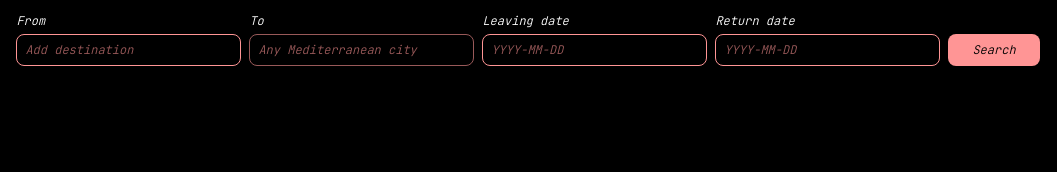
SearchForm › validates return date is after departure date
This screenshot has width=1057, height=172.
Type "Stockholm" into the field named "Departure city" at (129, 50), box [16,34,241,66]
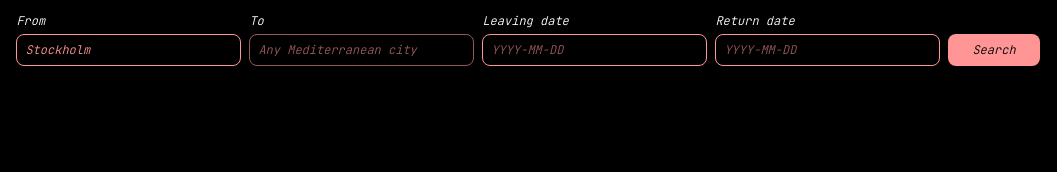
Type "2026-06-22" into the field named "Departure date" at (595, 50), box [482,34,707,66]
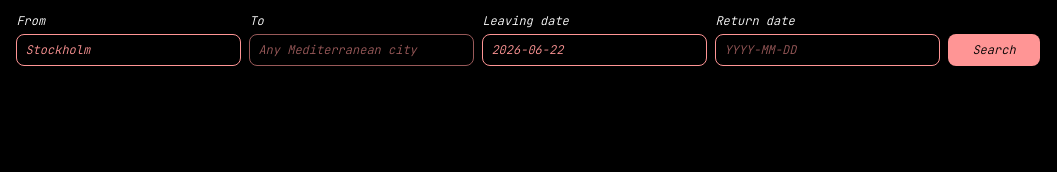
Type "2026-06-15" into the field named "Return date" at (828, 50), box [715,34,940,66]
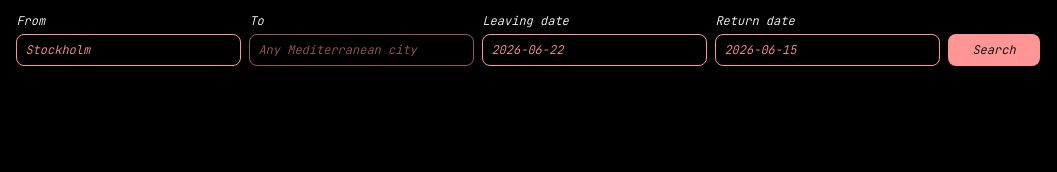
Click the button at (994, 50), box [948,34,1040,66]
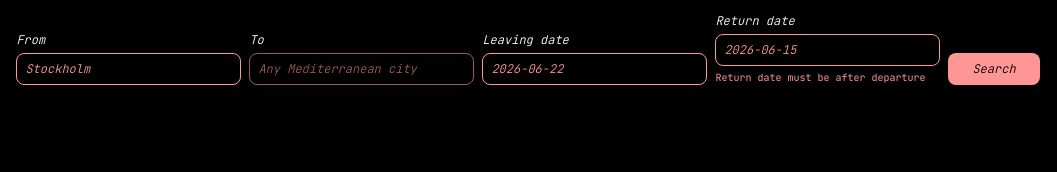
Expected: the text "Return date must be after departure" is shown, [715,70,940,85]
